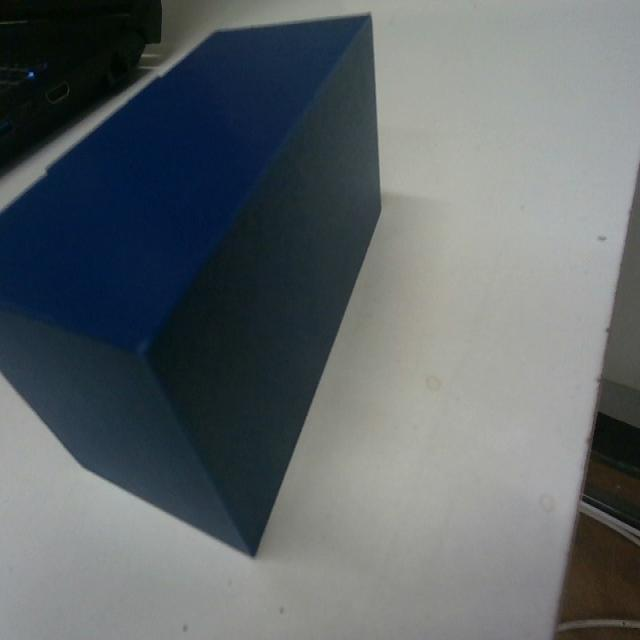Blue Cuboid: (0, 10, 384, 558)
